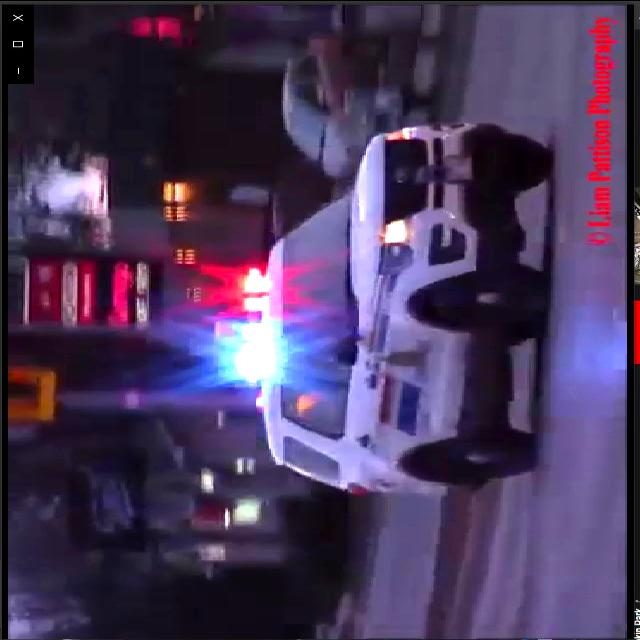emergency: (222, 121, 561, 498)
